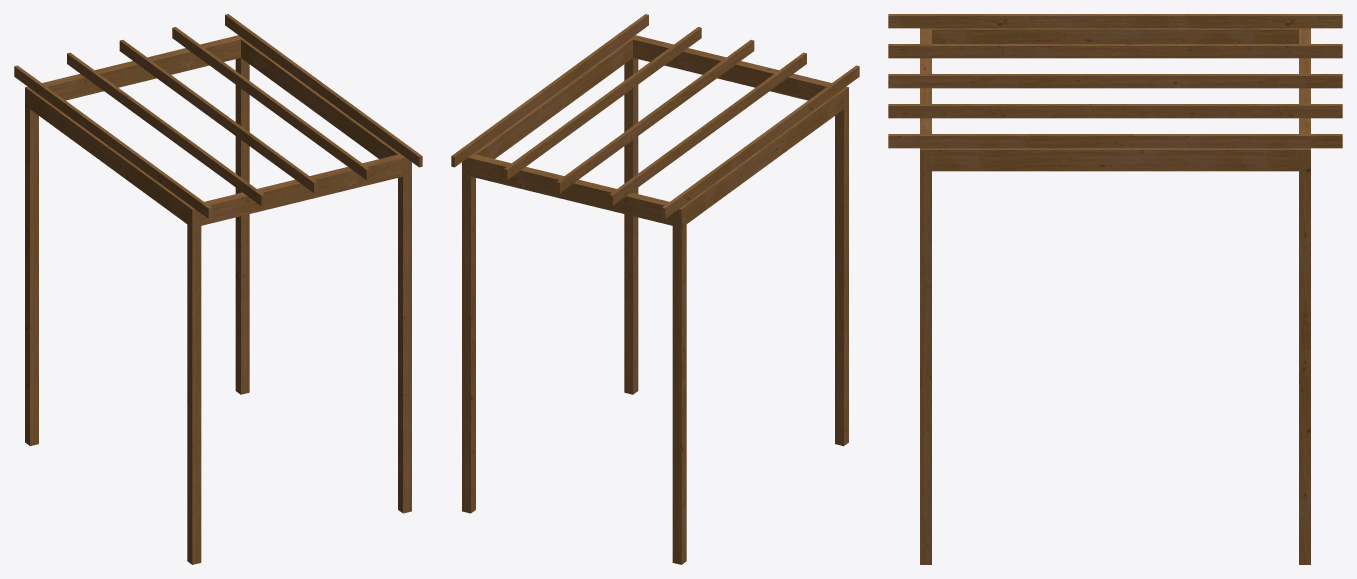
Rendered from pp-dokuritu_1k-8s_naturalpine.fbx.
3 renders of one model, left to right at view 1: azimuth 30°, elevation 25°; view 2: azimuth 150°, elevation 25°; view 3: azimuth 270°, elevation 25°, orthographic. The views are drawn at different scales.
Visible parts, largest first — view 1: pp-dokuritu_1k-8s_naturalpine; view 2: pp-dokuritu_1k-8s_naturalpine; view 3: pp-dokuritu_1k-8s_naturalpine.
Part boxes in pixels (<box>): pp-dokuritu_1k-8s_naturalpine: <box>14,14,422,564</box>; pp-dokuritu_1k-8s_naturalpine: <box>451,14,859,564</box>; pp-dokuritu_1k-8s_naturalpine: <box>888,14,1342,564</box>.
Bounding box in the file's own units: 187 × 298 × 287.
1 material, 1 textured.
